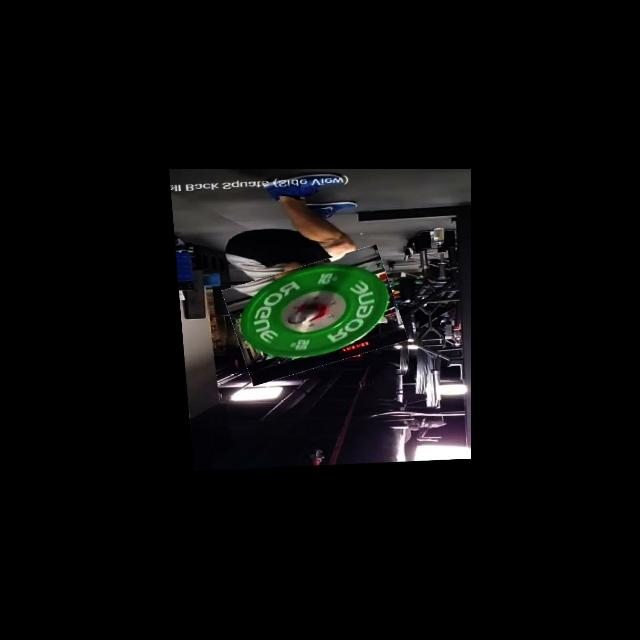barbell: (222, 255, 402, 378)
